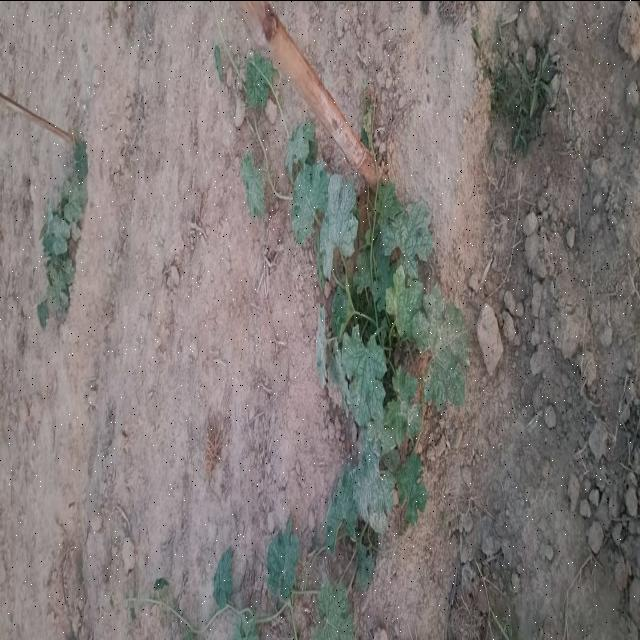plant: (285, 118, 469, 587), (266, 522, 300, 618), (241, 152, 269, 216), (245, 51, 272, 107), (214, 550, 232, 609), (234, 606, 261, 640)
